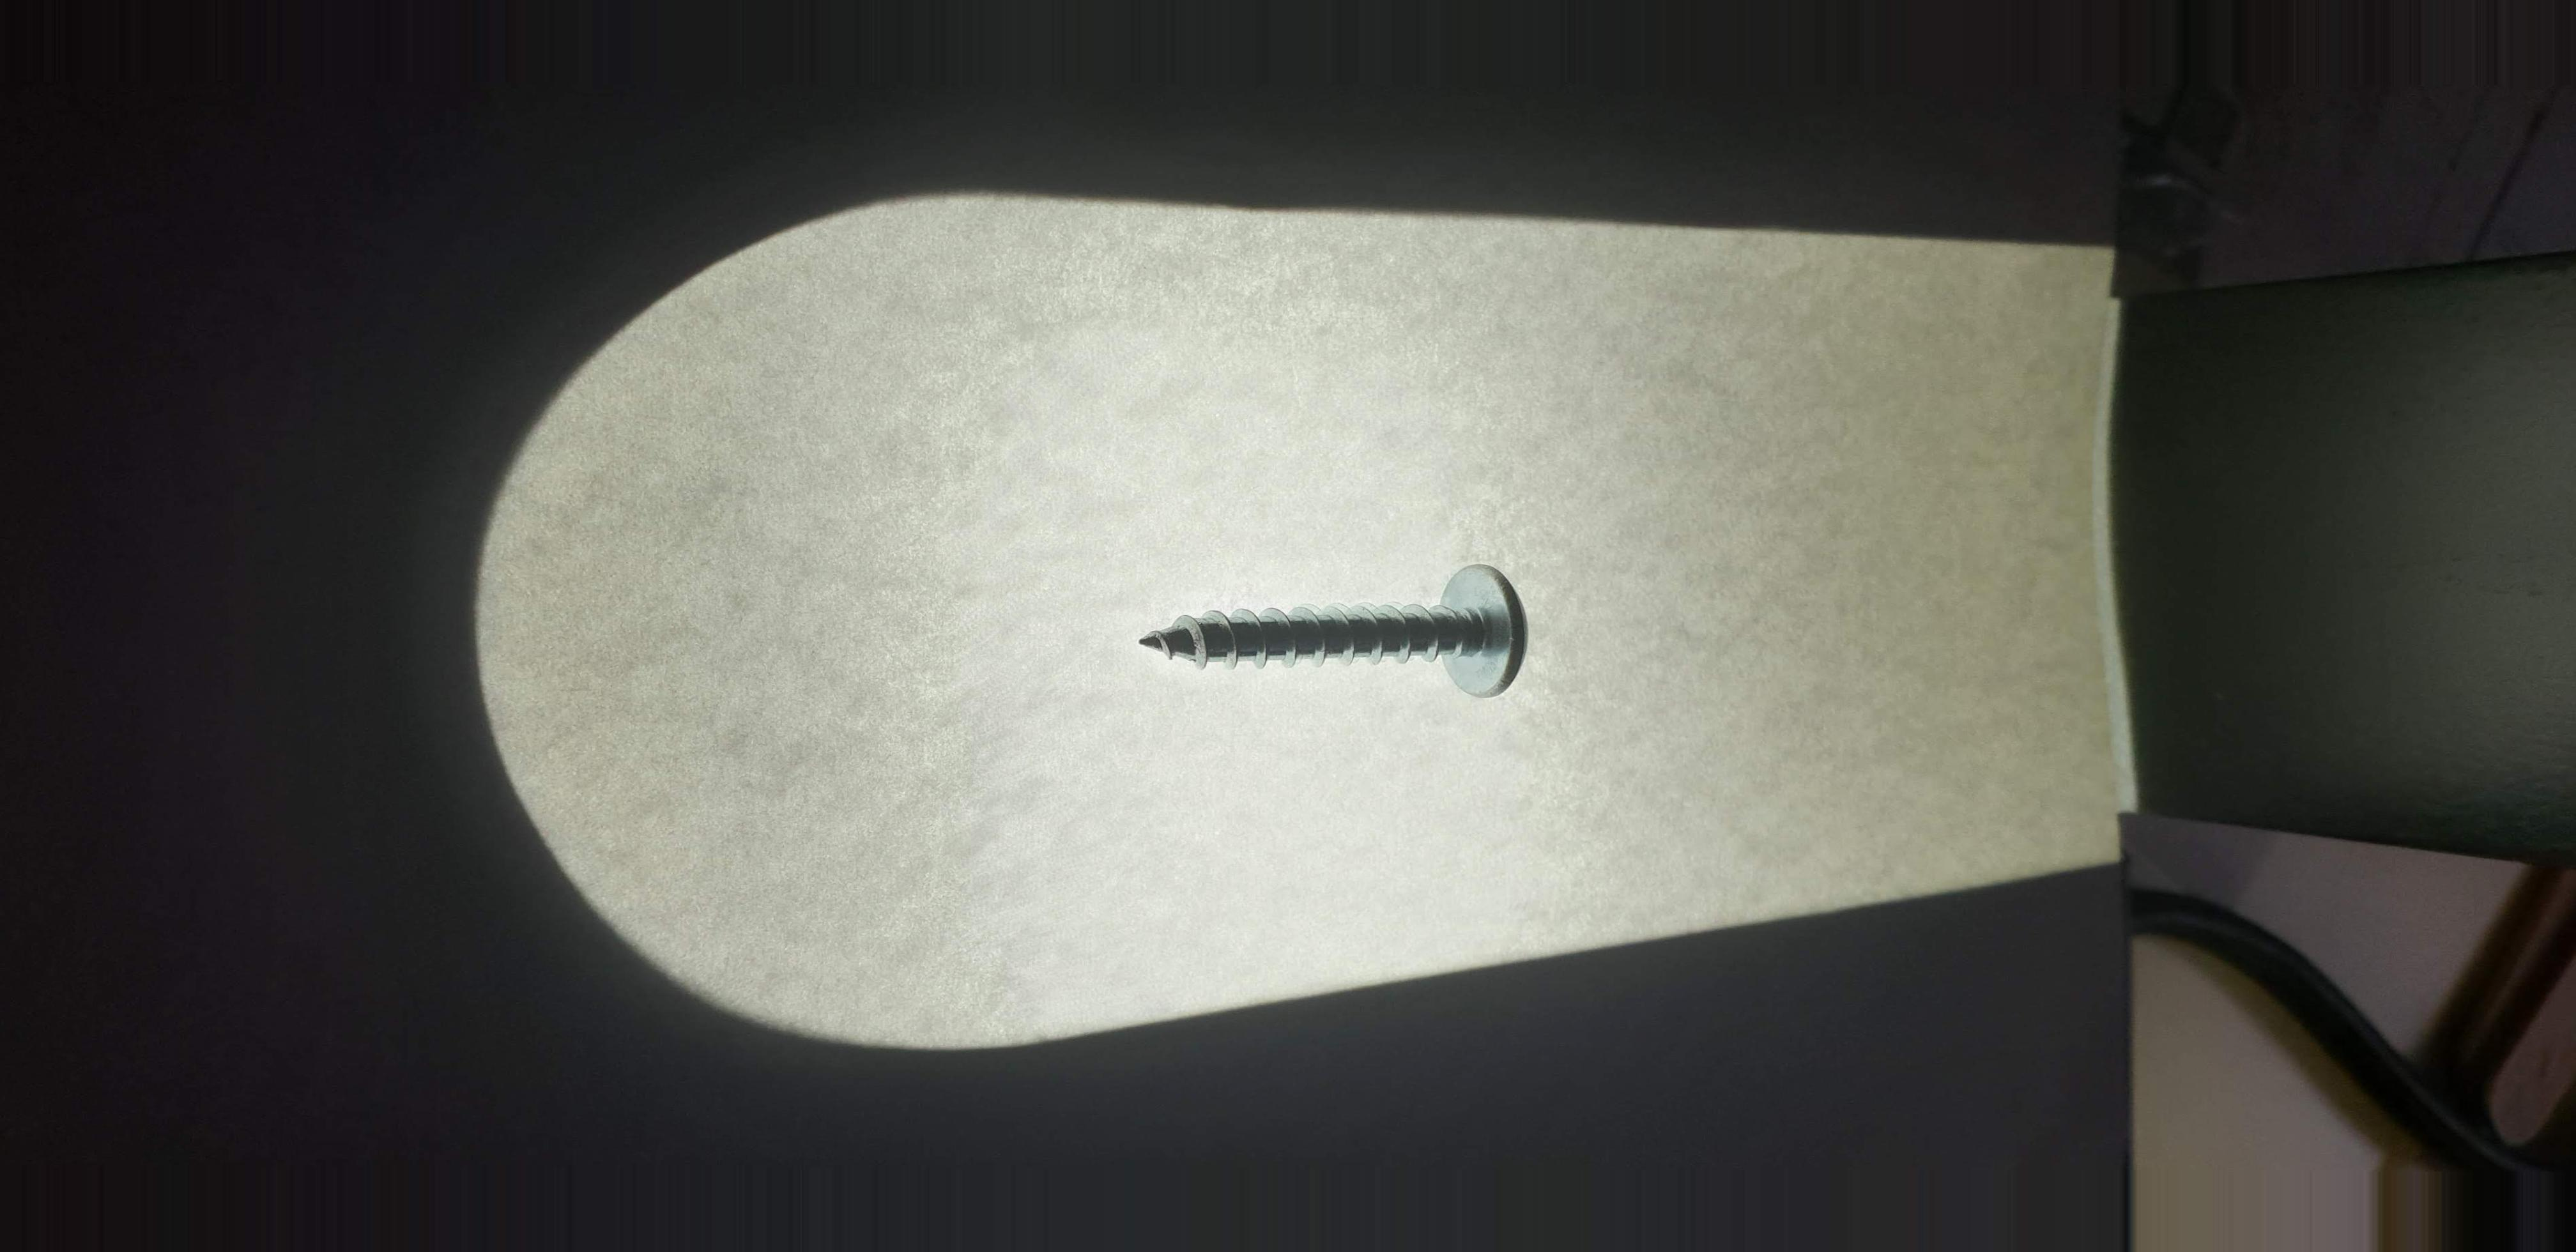S002: (1096, 536, 1594, 738)
